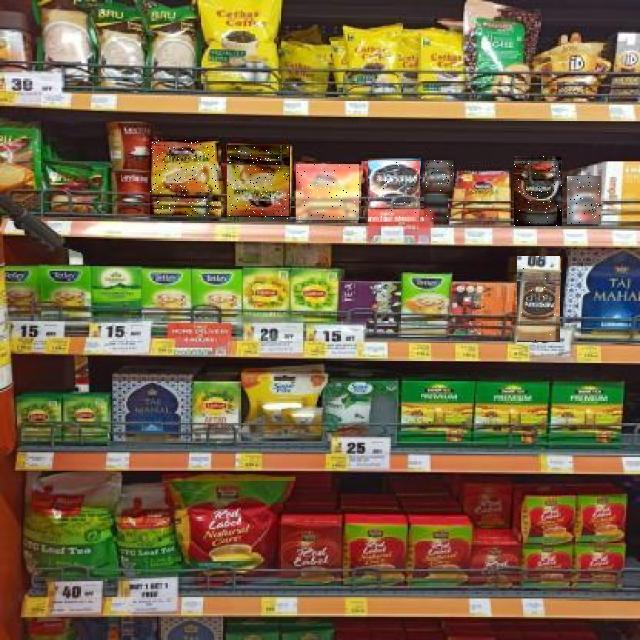Coffee: (150, 140, 218, 217), (227, 146, 290, 220), (517, 256, 560, 342), (296, 165, 359, 221), (515, 156, 563, 226), (368, 160, 420, 222), (567, 176, 601, 224), (425, 160, 453, 191), (424, 195, 448, 222)
